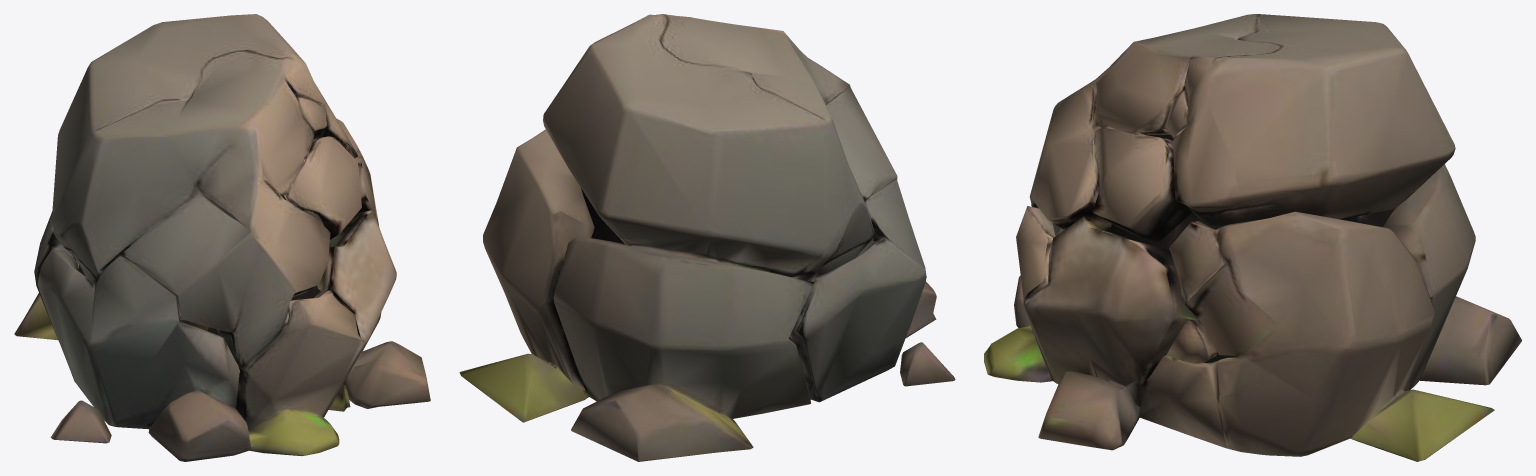
File: cover_rock.glb
3 renders of one model, left to right at view 1: azimuth 30°, elevation 25°; view 2: azimuth 150°, elevation 25°; view 3: azimuth 270°, elevation 25°, orthographic. The views are drawn at different scales.
Parts seen in each view (by area): view 1: cover_1; view 2: cover_1; view 3: cover_1.
Boxes of the visible parts, left/top/right/bottom form: cover_1: left=14, top=14, right=430, bottom=461; cover_1: left=459, top=14, right=955, bottom=461; cover_1: left=984, top=14, right=1521, bottom=461.
Size of the model in its own units: 0.3848 by 0.3057 by 0.4239.
Materials: 1 (1 with a texture image).
